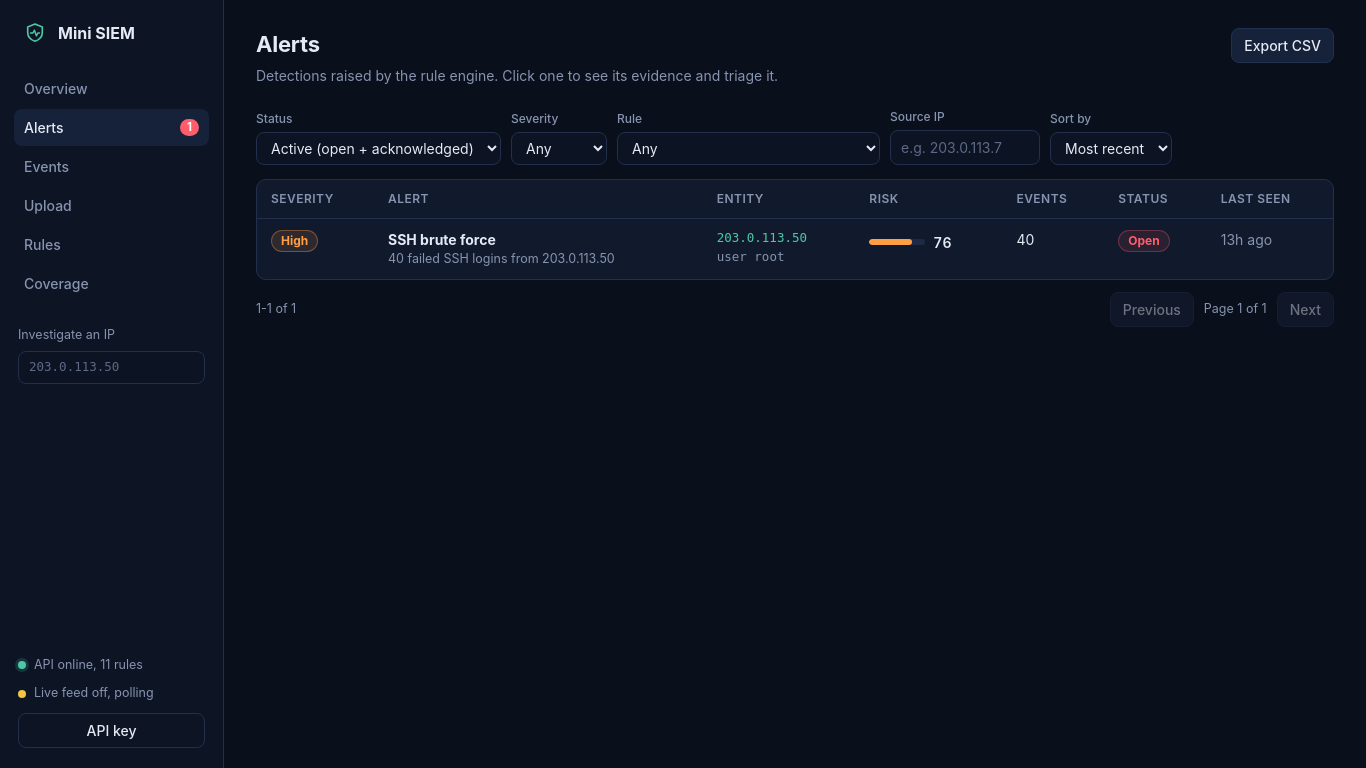
CSV export › shows the problem when the export fails
Click the button "Export CSV".
click(1283, 46)  # box [1231, 28, 1334, 63]
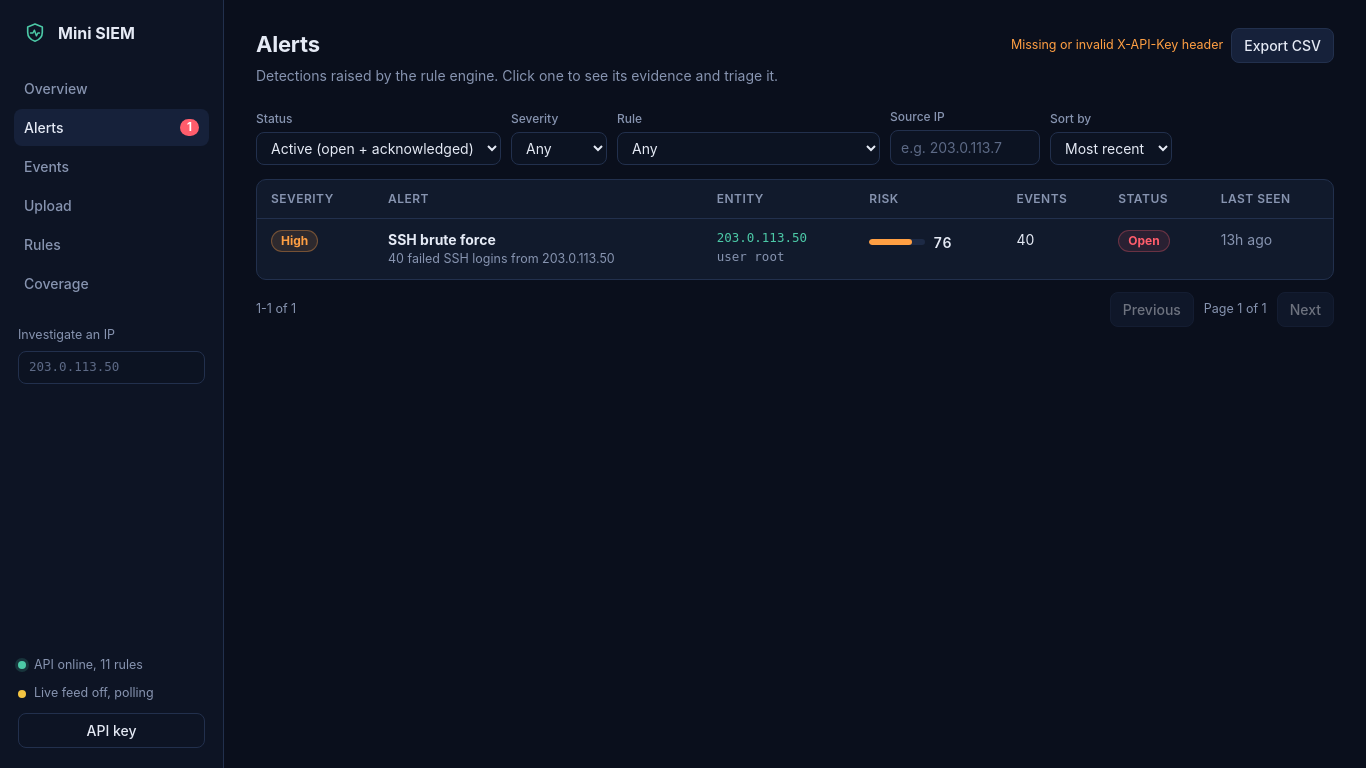
Check: the text "Missing or invalid X-API-Key header" is shown, box [1011, 36, 1223, 55]
